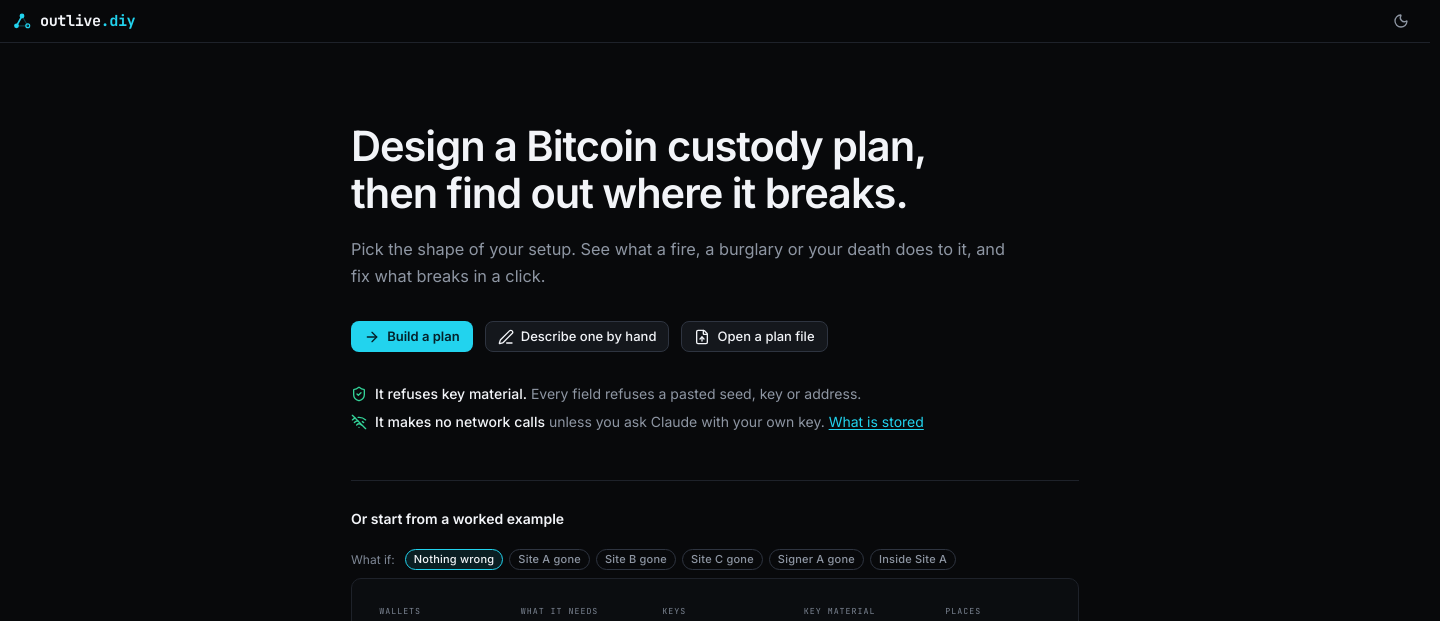
Test: the application › starts an empty plan on the first step of describing it
What coordinates should you click on to do the following:
click the button "Describe one by hand"
I would click on:
 (577, 337)
Its box is [485,321,669,352].
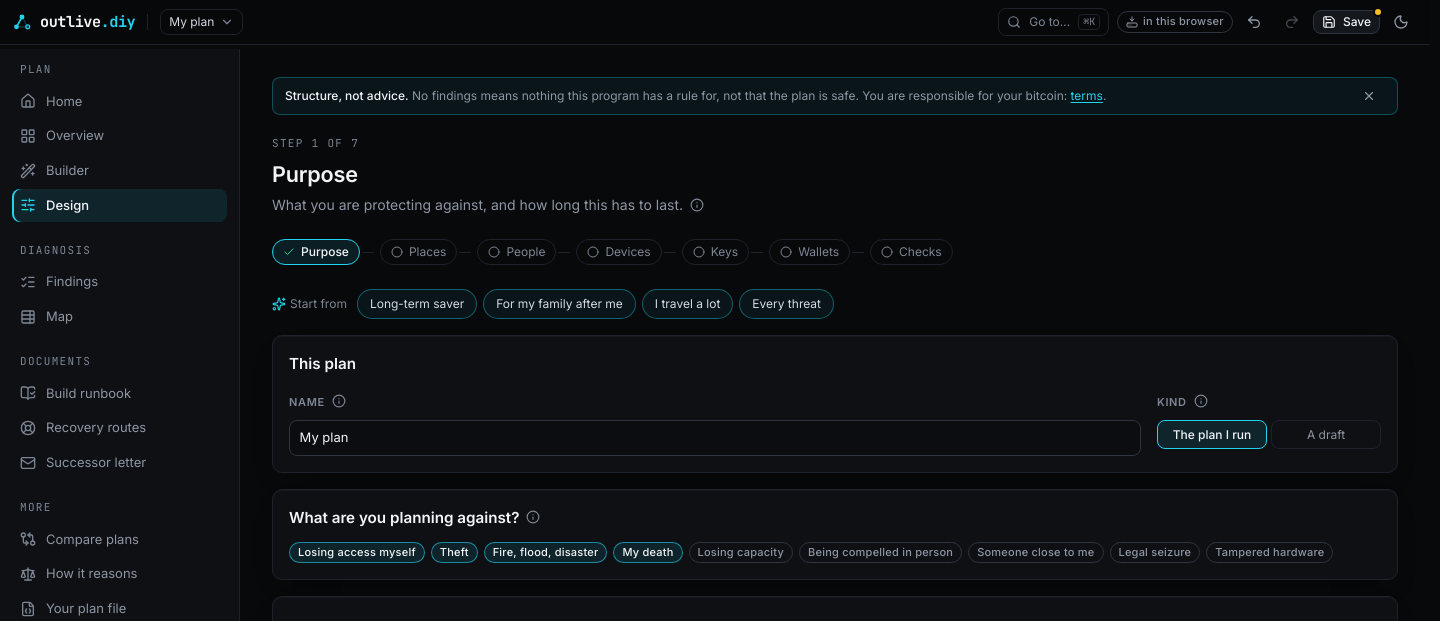
expect the heading "Purpose" is shown: met, box [272,161,358,187]
